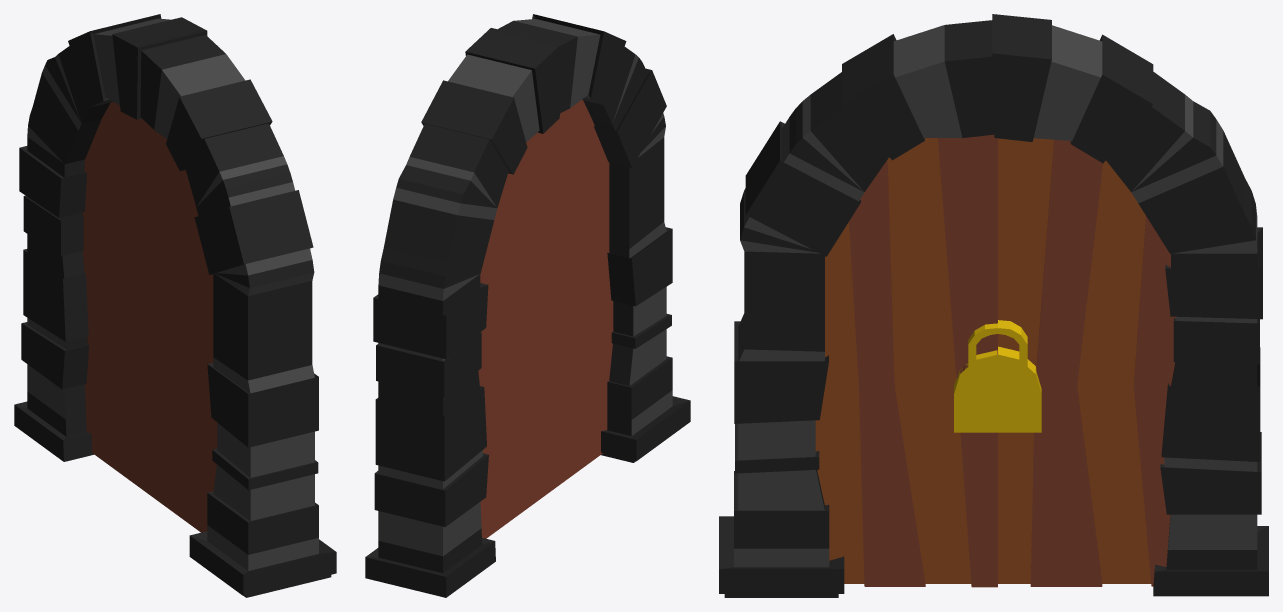
Rendered from Door.fbx.
3 views of the same model, side by side, from view 1: azimuth 30°, elevation 25°; view 2: azimuth 150°, elevation 25°; view 3: azimuth 270°, elevation 25° (orthographic). The views are drawn at different scales.
Visible parts, largest first — view 1: Door; view 2: Door; view 3: Door.
Boxes of the visible parts, x1,y1,x2,y2 form: Door: (14, 14, 336, 597); Door: (365, 14, 690, 597); Door: (719, 14, 1268, 597).
Size of the model in its own units: 0.5791 by 2.54 by 2.75.
